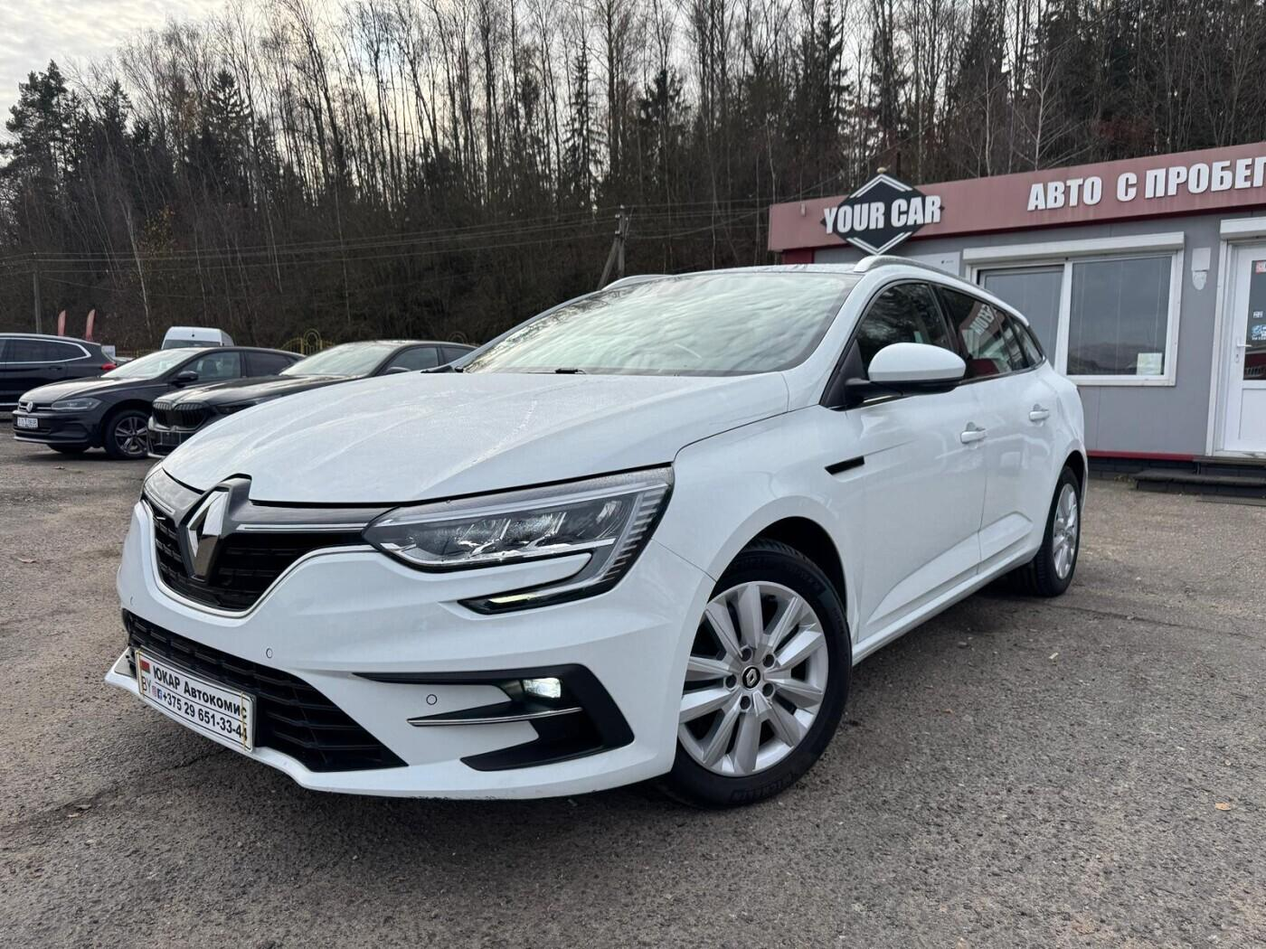Megane_2020: (103, 253, 1090, 828)
